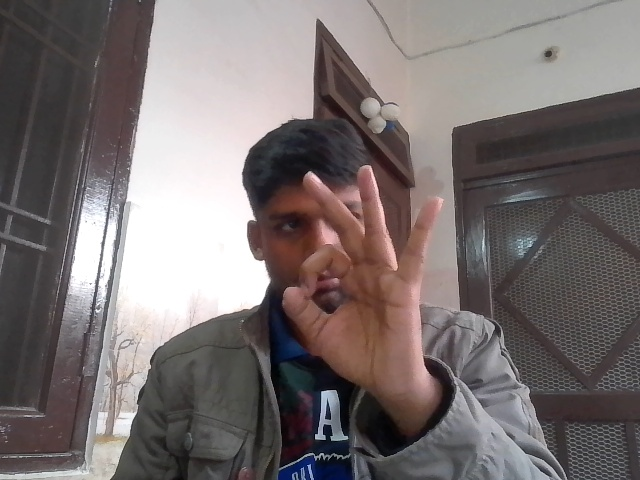Good: (268, 161, 466, 397)
